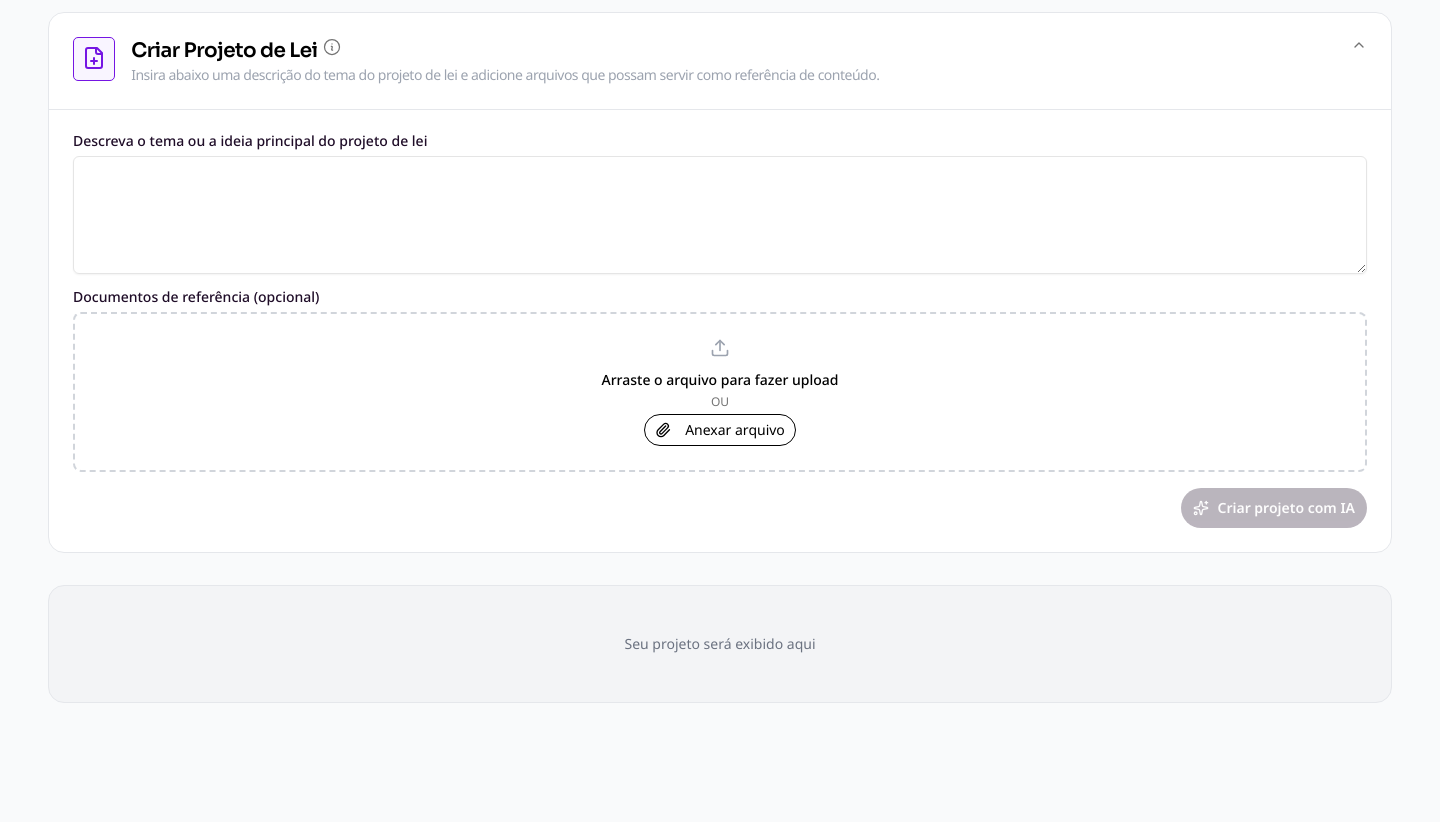
Test: CriarPl - comportamento do accordion (hook real) › deve desaparecer o loading quando receber o projeto de lei
Type "texto válido" into the text box labelled "Descreva o tema ou a ideia principal do projeto de lei". click: (720, 215)
box: [73, 156, 1367, 274]
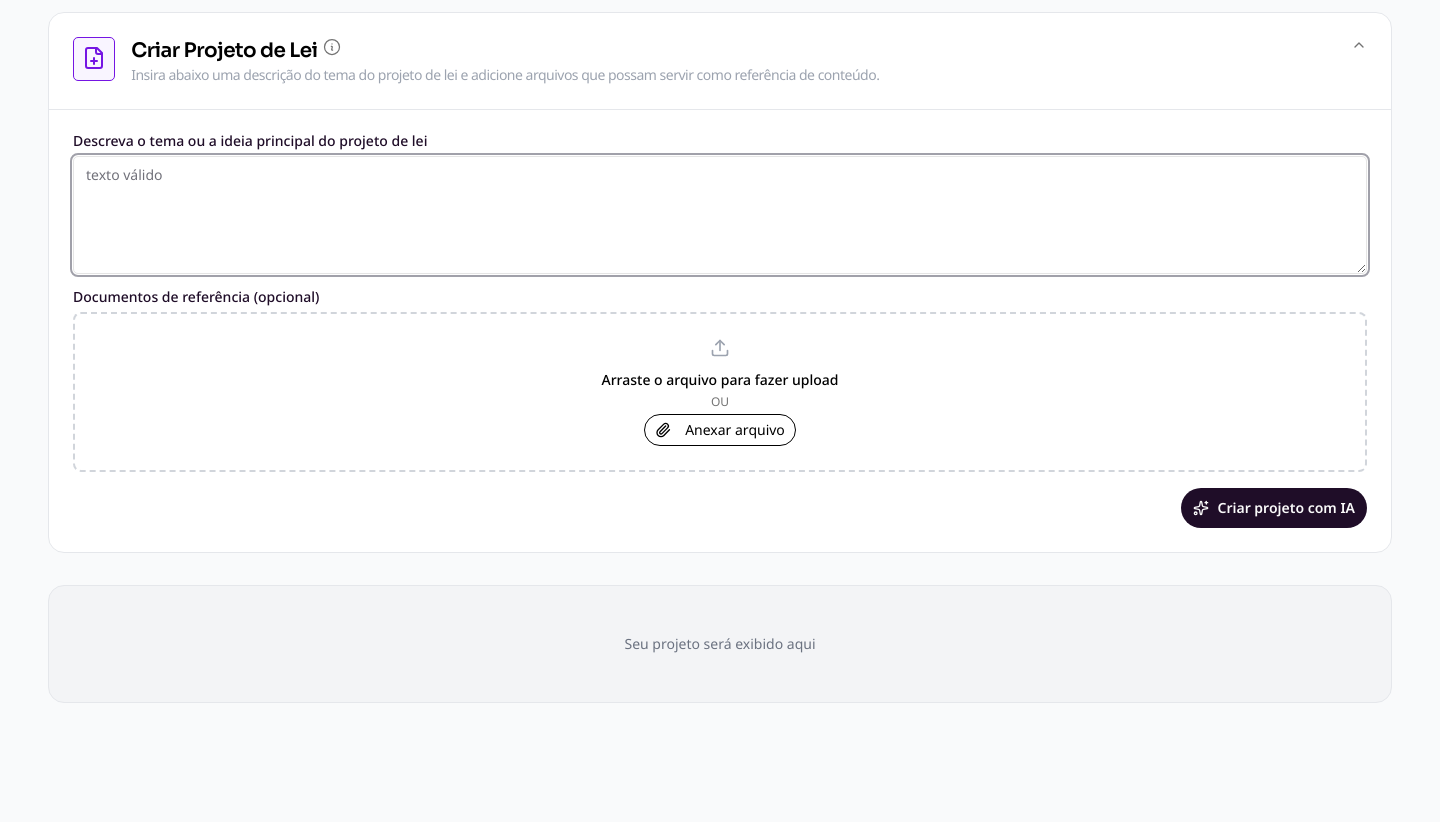
Check: the button "Criar projeto com IA" is enabled
Click the button "Criar projeto com IA". click: (1274, 508)
box: [1182, 488, 1367, 528]
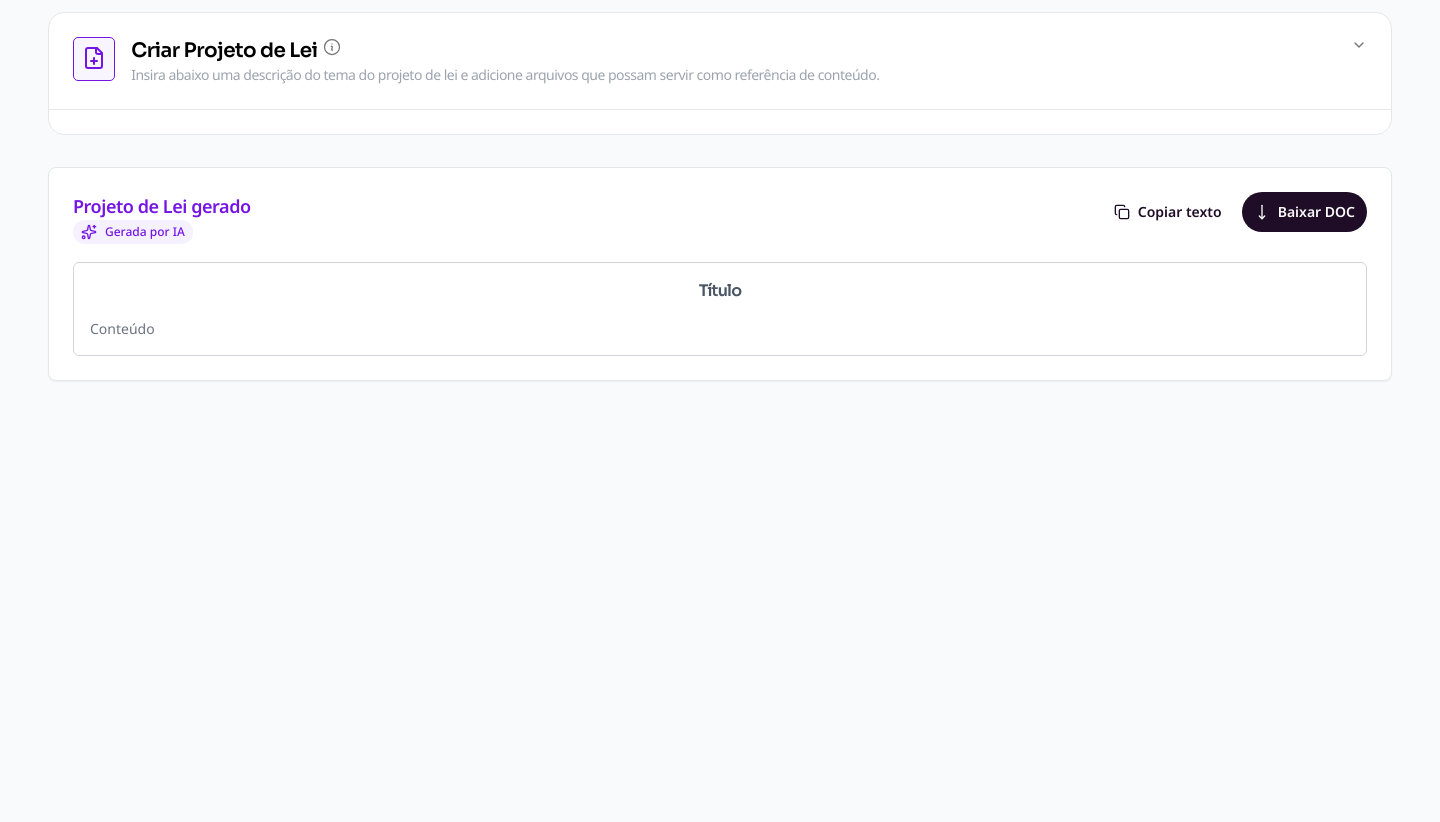
Check: the heading "Projeto de Lei gerado" is shown, box [73, 192, 251, 220]
